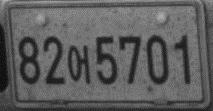0: (145, 33, 169, 84)
1: (173, 33, 191, 85)
2: (42, 35, 66, 84)
5: (95, 35, 118, 85)
7: (117, 35, 141, 84)
8: (17, 36, 40, 83)
어: (67, 43, 90, 85)
